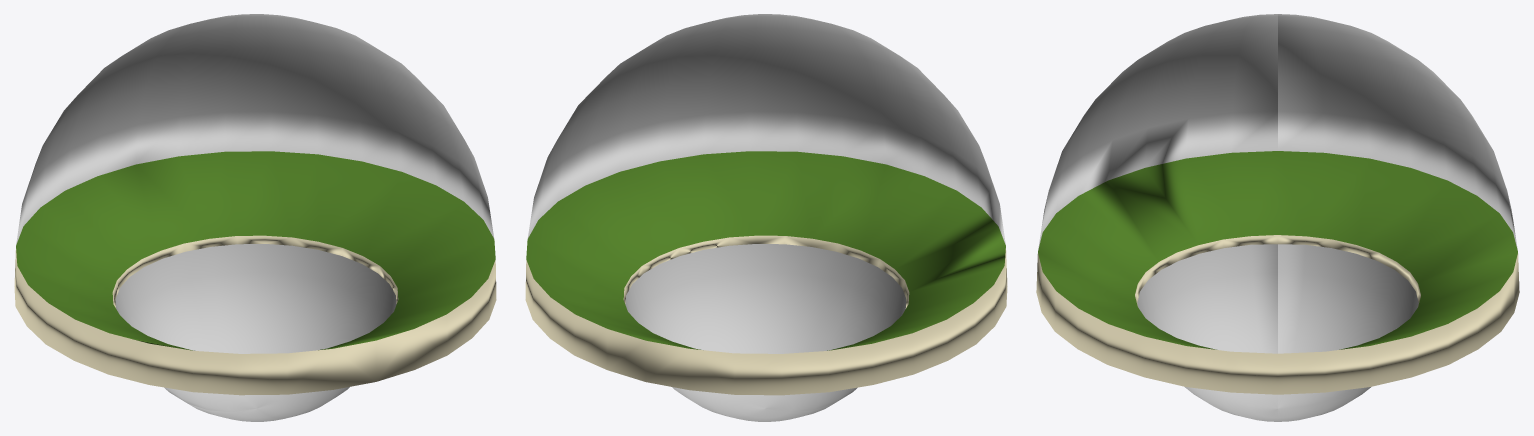
File: SphereGround.gltf
The picture shows the model from 3 angles, left to right: view 1: azimuth 30°, elevation 25°; view 2: azimuth 150°, elevation 25°; view 3: azimuth 270°, elevation 25°; orthographic projection.
Parts seen in each view (by area): view 1: CircleGround; view 2: CircleGround; view 3: CircleGround.
Boxes of the visible parts, x1,y1,x2,y2 form: CircleGround: [14, 14, 496, 421]; CircleGround: [525, 14, 1007, 421]; CircleGround: [1036, 14, 1519, 421].
Size of the model in its own units: 6.08 by 5.17 by 6.08.
